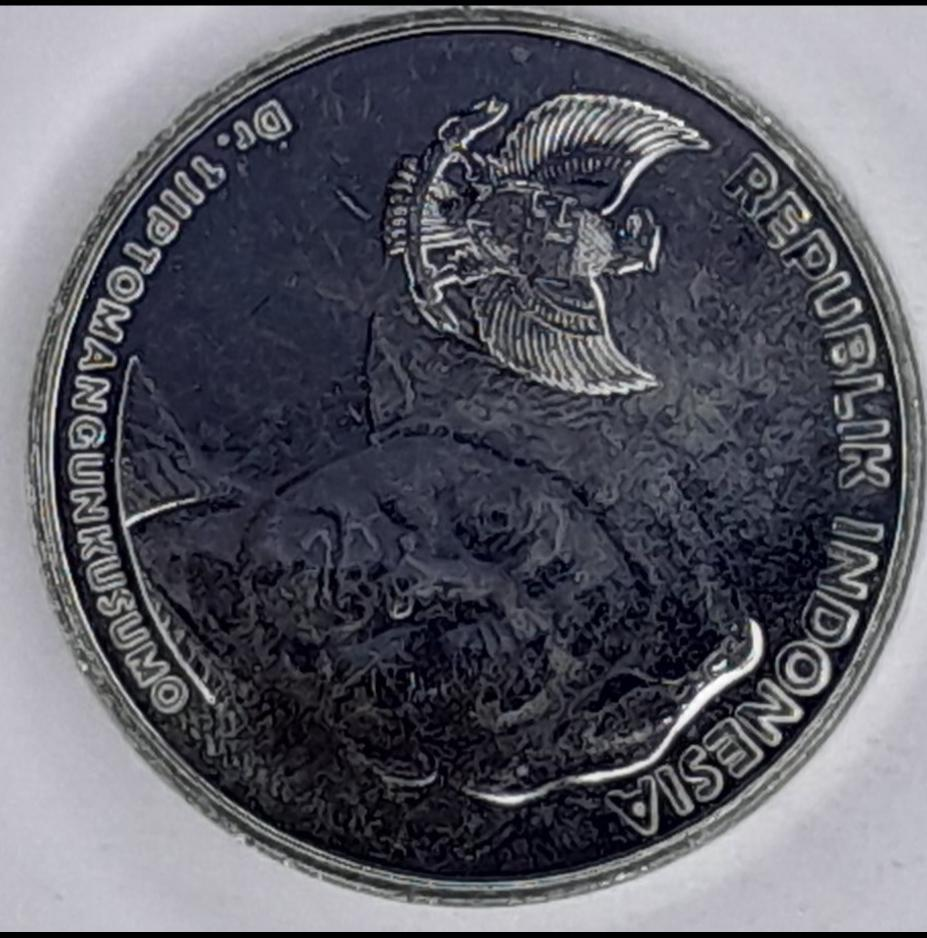coin_200_e2016: (0, 16, 927, 938)
